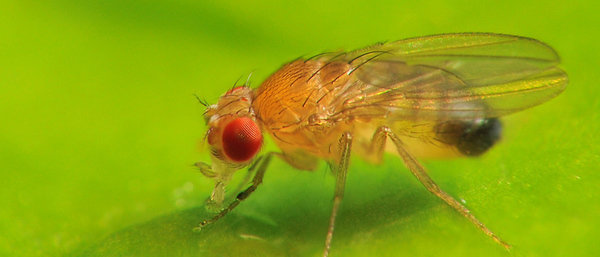Fruit fly: (178, 23, 557, 246)
